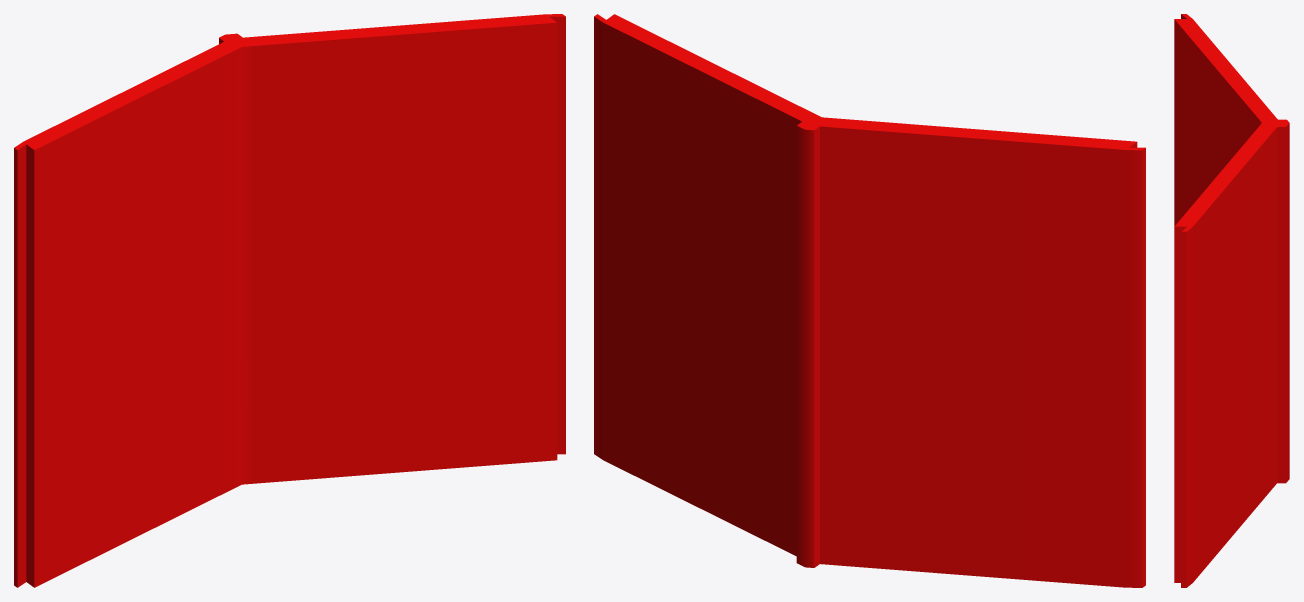
The model's file is Low_Couverture_Livre.fbx.
3 views of the same model, side by side, from view 1: azimuth 30°, elevation 25°; view 2: azimuth 150°, elevation 25°; view 3: azimuth 270°, elevation 25° (orthographic). The views are drawn at different scales.
Parts seen in each view (by area): view 1: Couverture_Livre; view 2: Couverture_Livre; view 3: Couverture_Livre.
Part boxes in pixels (x1,y1,x2,y2): Couverture_Livre: (14,14,565,587); Couverture_Livre: (594,14,1145,587); Couverture_Livre: (1174,14,1289,587).
Size of what is drawn, in the model's own units: 25.81 by 19.68 by 5.77.
